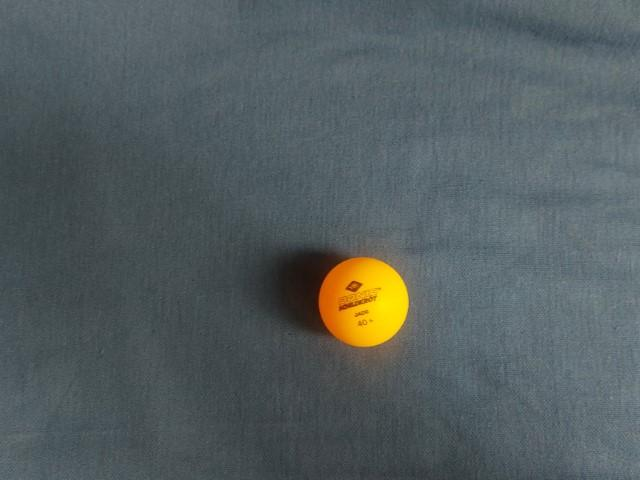oball: (225, 127, 327, 232)
